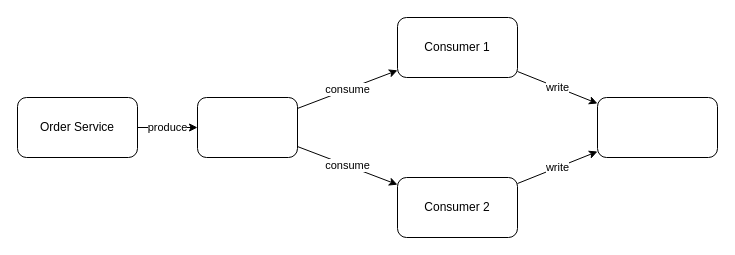
The diagram is 735 pixels wide and 255 high, and some of its shapes have lost their labels. Each missing label, with the centre of its shape:
"Kafka" belongs at pixel 247 127.
"PostgreSQL" belongs at pixel 657 127.
